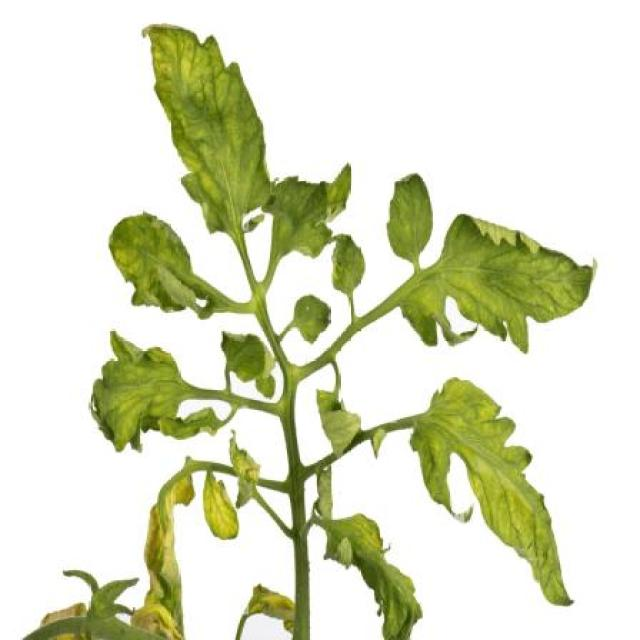Mosaic Virus: (409, 374, 575, 610), (399, 209, 600, 358), (140, 20, 276, 236), (311, 458, 426, 639), (88, 326, 182, 459), (106, 211, 194, 316), (261, 163, 353, 261), (203, 468, 240, 542)
